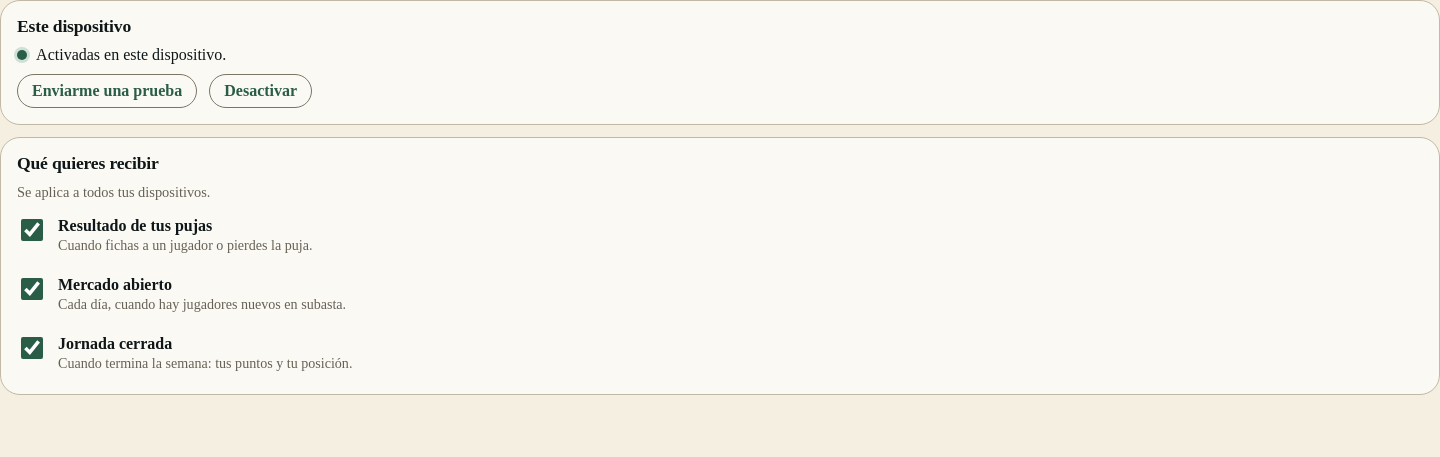
Test: NotificationSettings › the test button reports how many devices got the message
Click the button "Enviarme una prueba" at x=107, y=91, box [17,74,197,108]
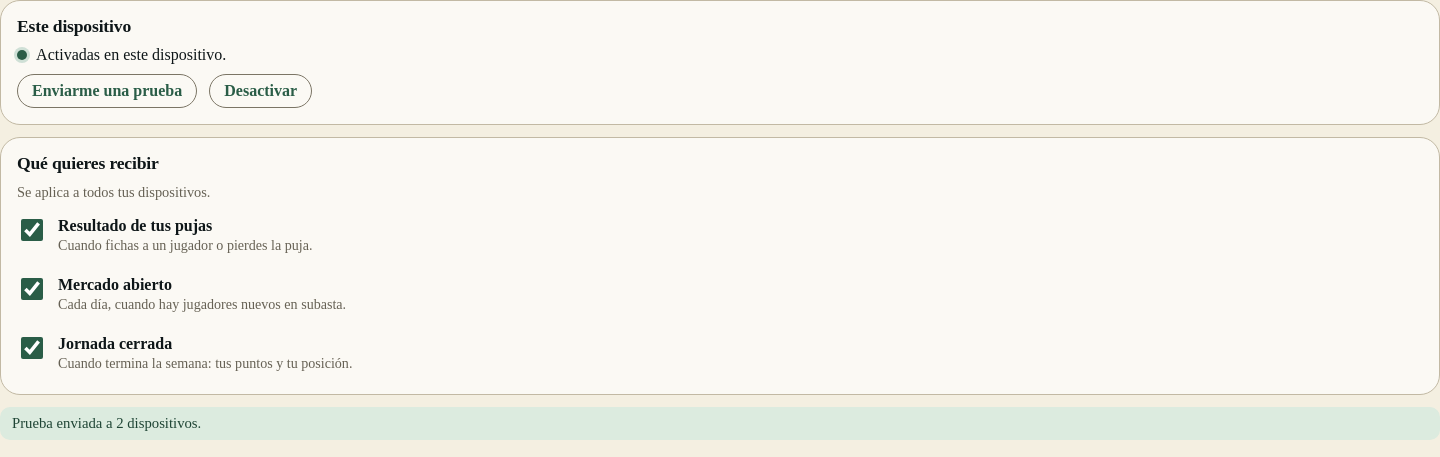
Now the text "Prueba enviada a 2 dispositivos." is shown, box [0,407,1439,440]
